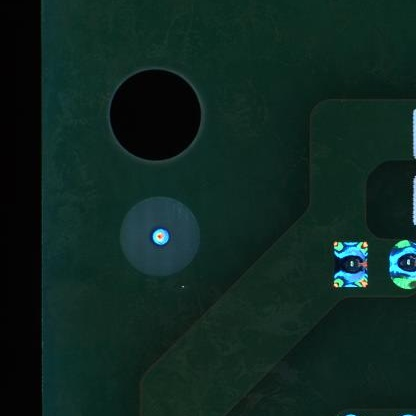spot: (387, 238, 416, 291), (334, 242, 368, 286)
